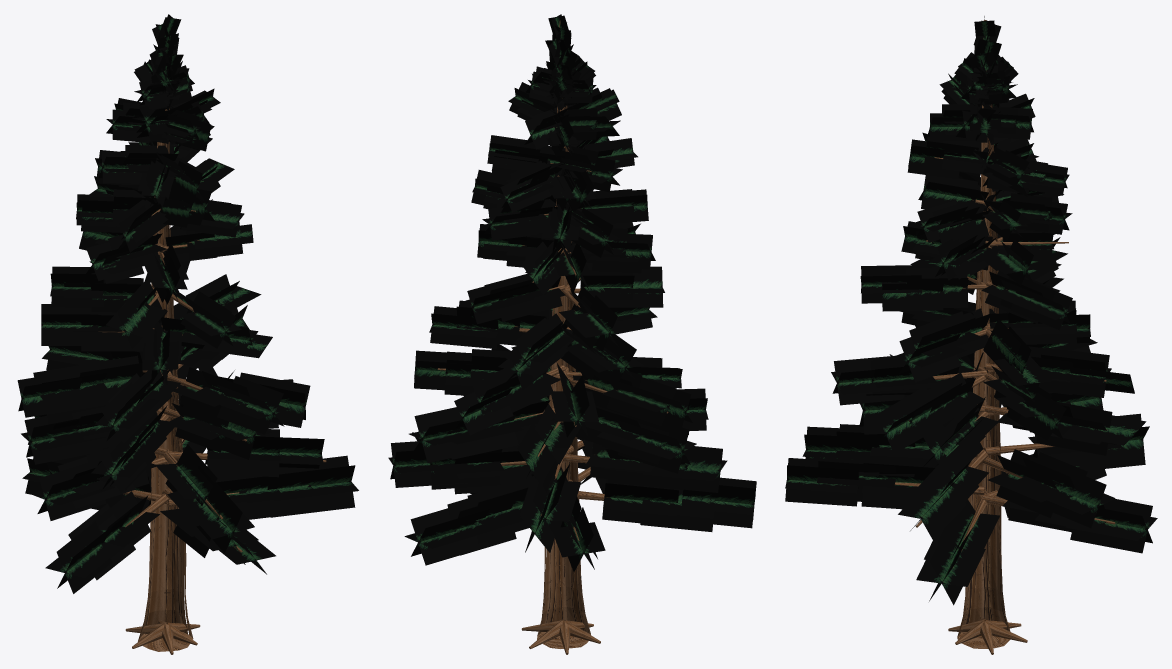
Rendered from pine.glb.
3 views of the same model, side by side, from view 1: azimuth 30°, elevation 25°; view 2: azimuth 150°, elevation 25°; view 3: azimuth 270°, elevation 25° (orthographic).
Parts seen in each view (by area): view 1: Trunk, Needle_Card_0004, Needle_Card_0172, Needle_Card_0191, Needle_Card_0008, Needle_Card_0026, Needle_Card_0082, Needle_Card_0062, Needle_Card_0163, Needle_Card_0007, Needle_Card_0046, Needle_Card_0221 (+63 smaller); view 2: Trunk, Needle_Card_0122, Needle_Card_0044, Needle_Card_0271, Needle_Card_0187, Needle_Card_0061, Needle_Card_0038, Needle_Card_0022, Needle_Card_0113, Needle_Card_0146, Needle_Card_0058, Needle_Card_0155 (+58 smaller); view 3: Trunk, Needle_Card_0079, Needle_Card_0043, Needle_Card_0086, Needle_Card_0260, Needle_Card_0070, Needle_Card_0118, Needle_Card_0164, Needle_Card_0120, Needle_Card_0173, Needle_Card_0084, Needle_Card_0017 (+50 smaller).
Boxes of the visible parts, box(x1,y1,x2,y2) form: Trunk: box(138, 108, 193, 651); Needle_Card_0004: box(237, 467, 314, 519); Needle_Card_0172: box(217, 376, 283, 434); Needle_Card_0191: box(17, 371, 83, 417); Needle_Card_0008: box(267, 465, 355, 489); Needle_Card_0026: box(56, 521, 112, 593); Needle_Card_0082: box(207, 429, 279, 477); Needle_Card_0062: box(39, 462, 106, 520); Needle_Card_0163: box(240, 372, 310, 427); Needle_Card_0007: box(271, 455, 355, 517); Needle_Card_0046: box(165, 444, 217, 505); Needle_Card_0221: box(41, 304, 97, 345); Trunk: box(537, 20, 590, 648); Needle_Card_0122: box(414, 407, 487, 462); Needle_Card_0044: box(410, 508, 489, 565); Needle_Card_0271: box(603, 266, 663, 307); Needle_Card_0187: box(606, 377, 676, 425); Needle_Card_0061: box(684, 446, 722, 492); Needle_Card_0038: box(467, 476, 534, 542); Needle_Card_0022: box(640, 489, 715, 531); Needle_Card_0113: box(517, 422, 554, 484); Needle_Card_0146: box(454, 391, 513, 435); Needle_Card_0058: box(607, 448, 689, 490); Needle_Card_0155: box(414, 350, 471, 390); Trunk: box(957, 20, 1010, 648); Needle_Card_0079: box(1041, 464, 1106, 527); Needle_Card_0043: box(1070, 499, 1152, 553); Needle_Card_0086: box(908, 465, 965, 540); Needle_Card_0260: box(905, 267, 968, 308); Needle_Card_0070: box(1078, 413, 1145, 470); Needle_Card_0118: box(1036, 402, 1112, 455); Needle_Card_0164: box(877, 386, 927, 453); Needle_Card_0120: box(1062, 415, 1146, 445); Needle_Card_0173: box(834, 356, 904, 405); Needle_Card_0084: box(898, 483, 976, 522); Needle_Card_0017: box(785, 458, 859, 506).
Bounding box in the file's own units: 6.78 × 12.46 × 6.75.
2 materials, 2 textured.
